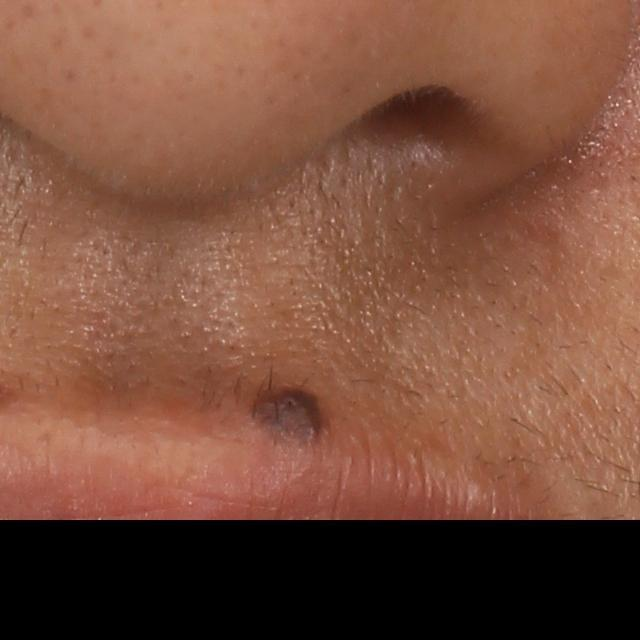nevus: (253, 384, 316, 442)
